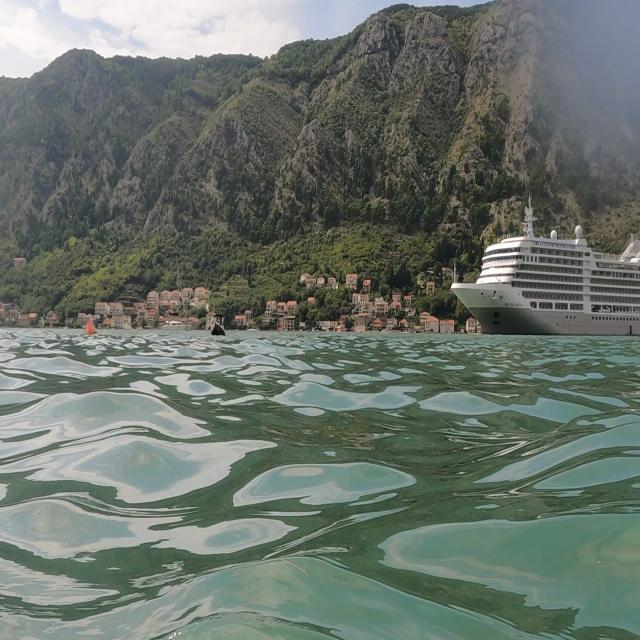boat: (448, 190, 638, 339)
buoy: (80, 311, 102, 341), (207, 319, 230, 345)
